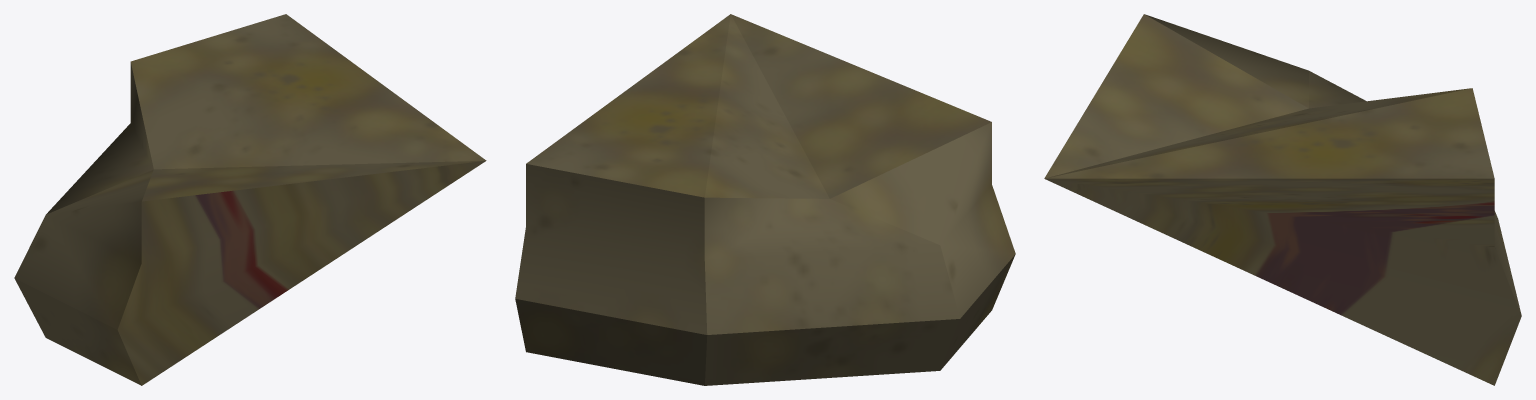
The model's file is ishi_02_7_2.fbx.
3 renders of one model, left to right at view 1: azimuth 30°, elevation 25°; view 2: azimuth 150°, elevation 25°; view 3: azimuth 270°, elevation 25°, orthographic. The views are drawn at different scales.
Visible parts, largest first — view 1: polySurface28; view 2: polySurface28; view 3: polySurface28.
Part boxes in pixels (bbox=[...]): polySurface28: bbox=[14, 14, 486, 385]; polySurface28: bbox=[515, 14, 1015, 385]; polySurface28: bbox=[1044, 14, 1521, 385].
Bounding box in the file's own units: 7.62 × 3.85 × 8.05.
1 material, 1 textured.
